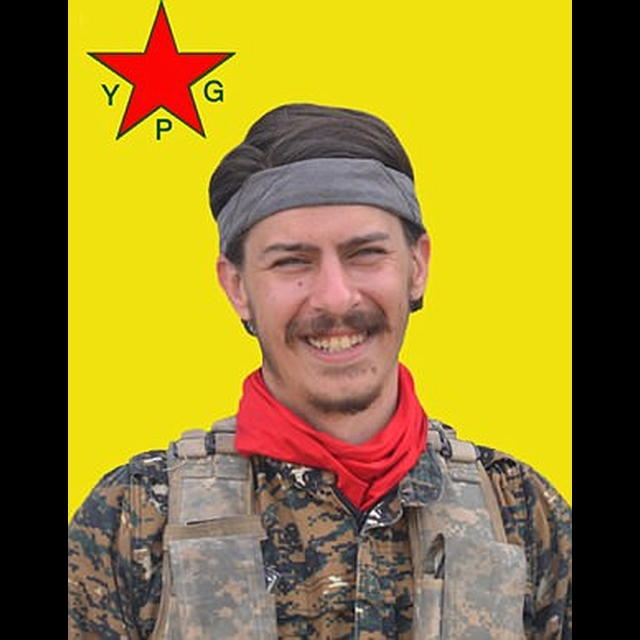YPG: (83, 1, 232, 148)
